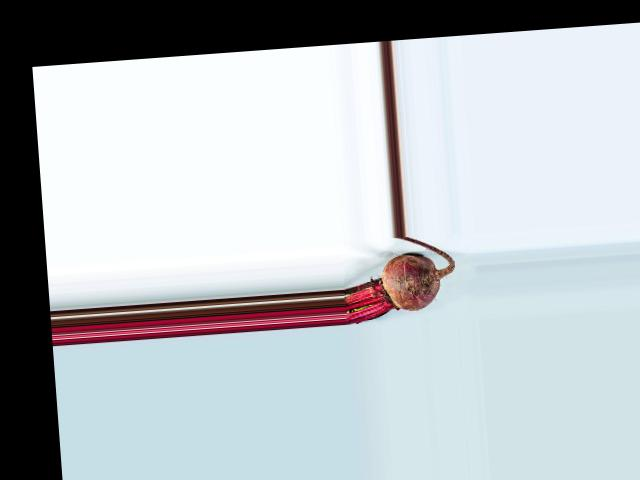beet: (338, 233, 458, 325)
